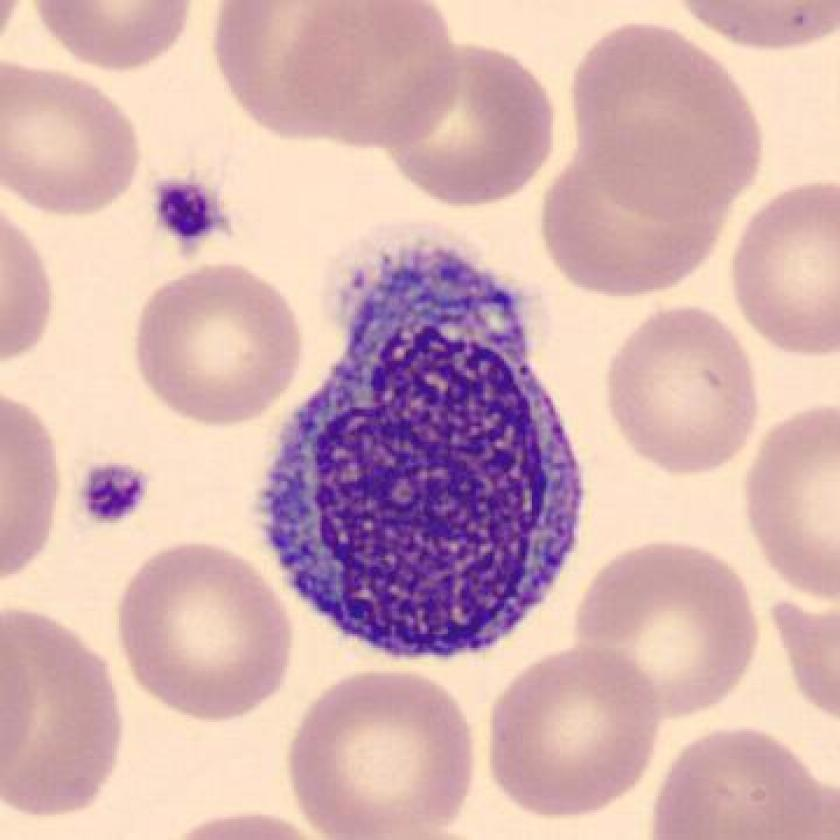monocyte: (232, 228, 612, 686)
